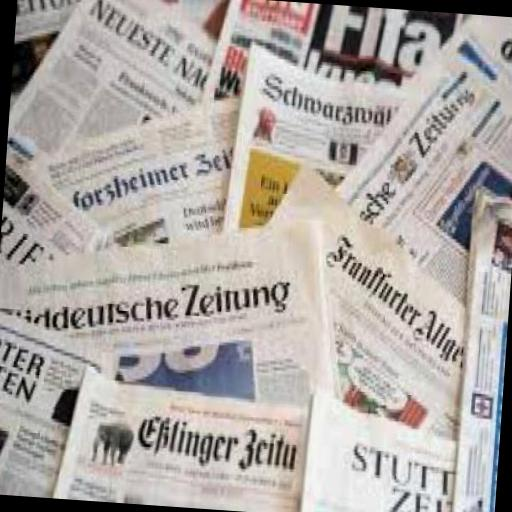paper: (0, 195, 353, 512), (246, 158, 476, 442), (330, 52, 512, 307), (47, 361, 311, 512), (220, 34, 404, 244), (202, 0, 463, 139), (7, 0, 220, 157), (22, 84, 233, 238), (0, 307, 119, 498), (447, 185, 512, 512), (297, 385, 460, 512), (1, 142, 126, 246), (14, 0, 83, 42)
